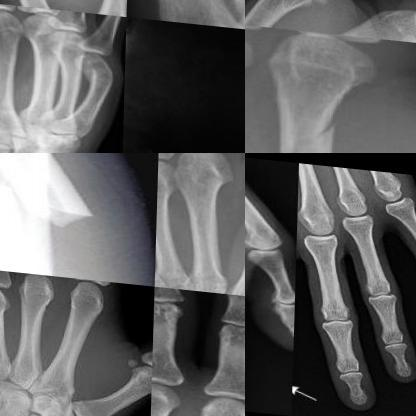fracture: (257, 97, 350, 152), (78, 53, 123, 94)
